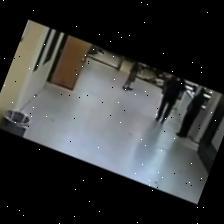person: (175, 88, 204, 138), (155, 75, 184, 123), (122, 61, 140, 90)
